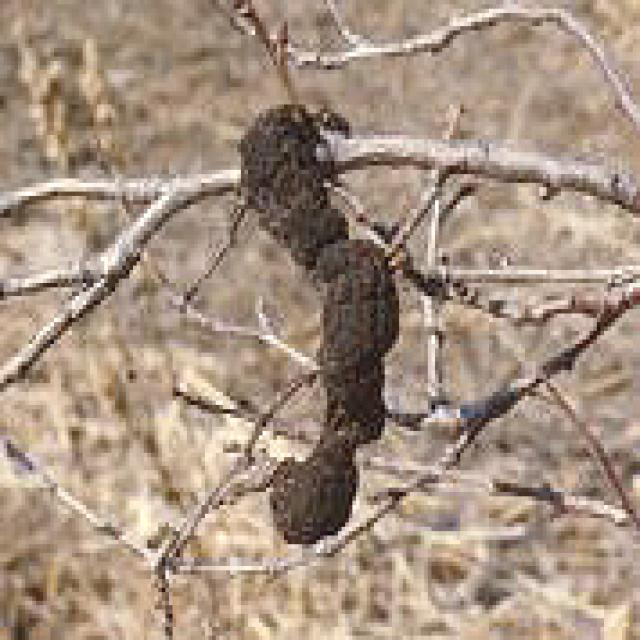Black_knot: (230, 96, 403, 544)
